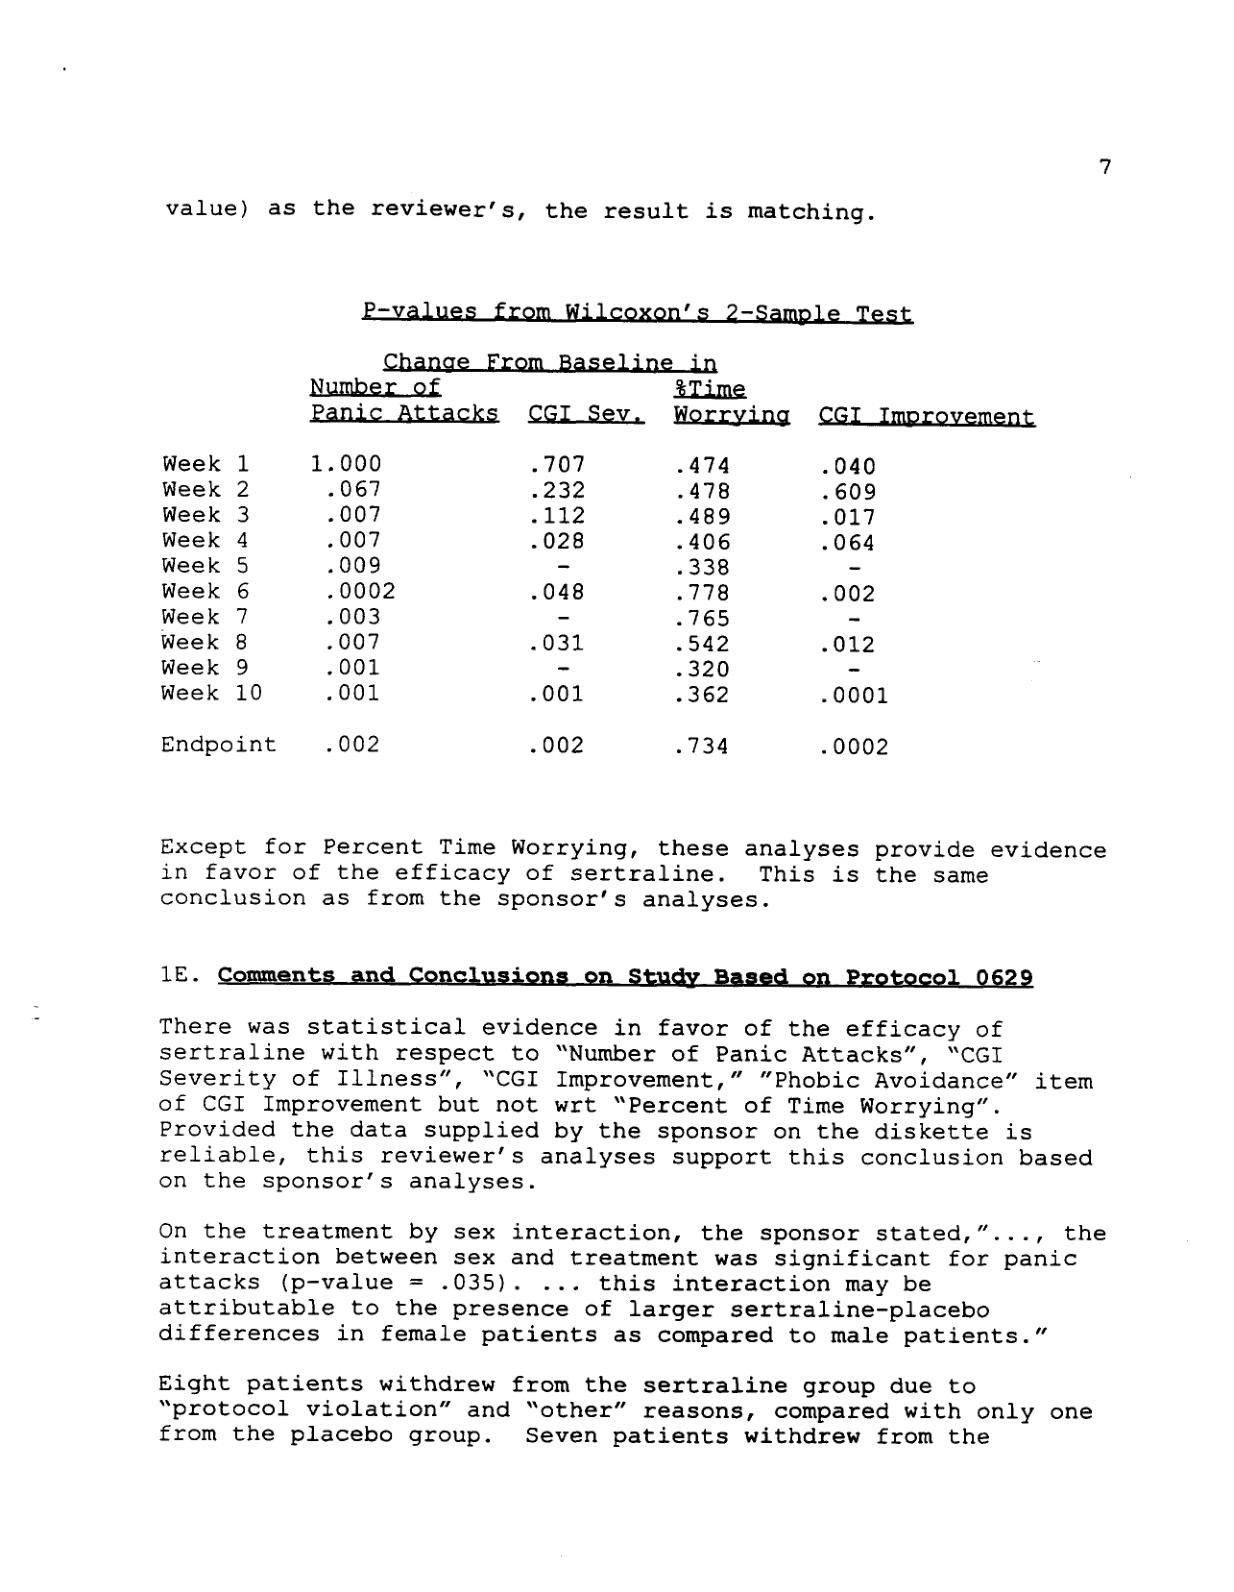nolines: (151, 379, 1039, 766)
